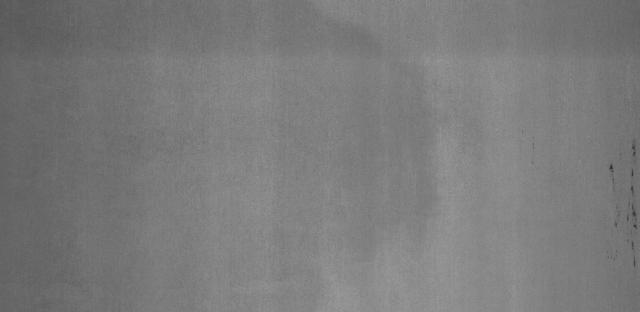inclusion: (623, 142, 639, 157), (606, 163, 625, 175), (625, 238, 638, 254), (624, 185, 640, 195), (626, 205, 639, 217), (628, 166, 638, 178), (612, 217, 620, 228)
